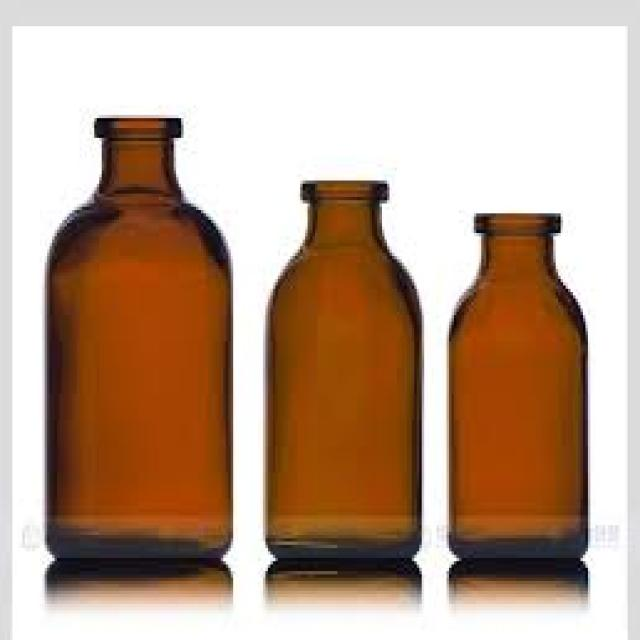glass: (45, 115, 231, 561), (265, 181, 422, 565), (447, 210, 586, 568)
